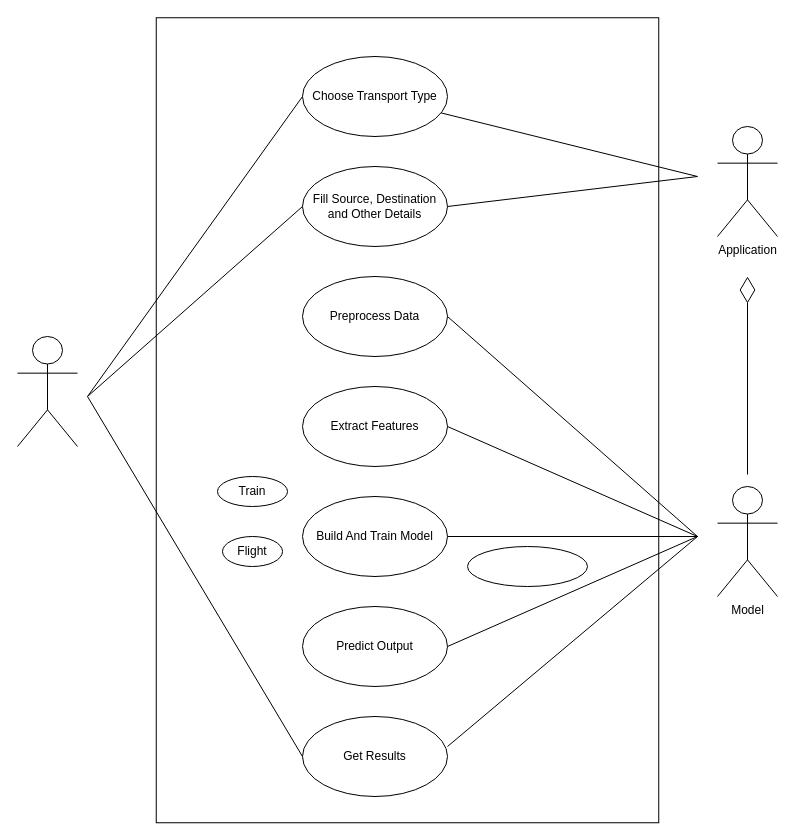
Image size: 795x840. Some labels were removed from this diagram. Here are the shapes that lost their labels. From the top down, the centre of each, then its label:
the point at 47,391: User
the point at 527,566: Roadways Model
